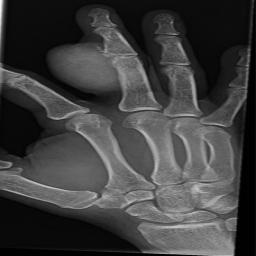cancer: (46, 42, 150, 94)
